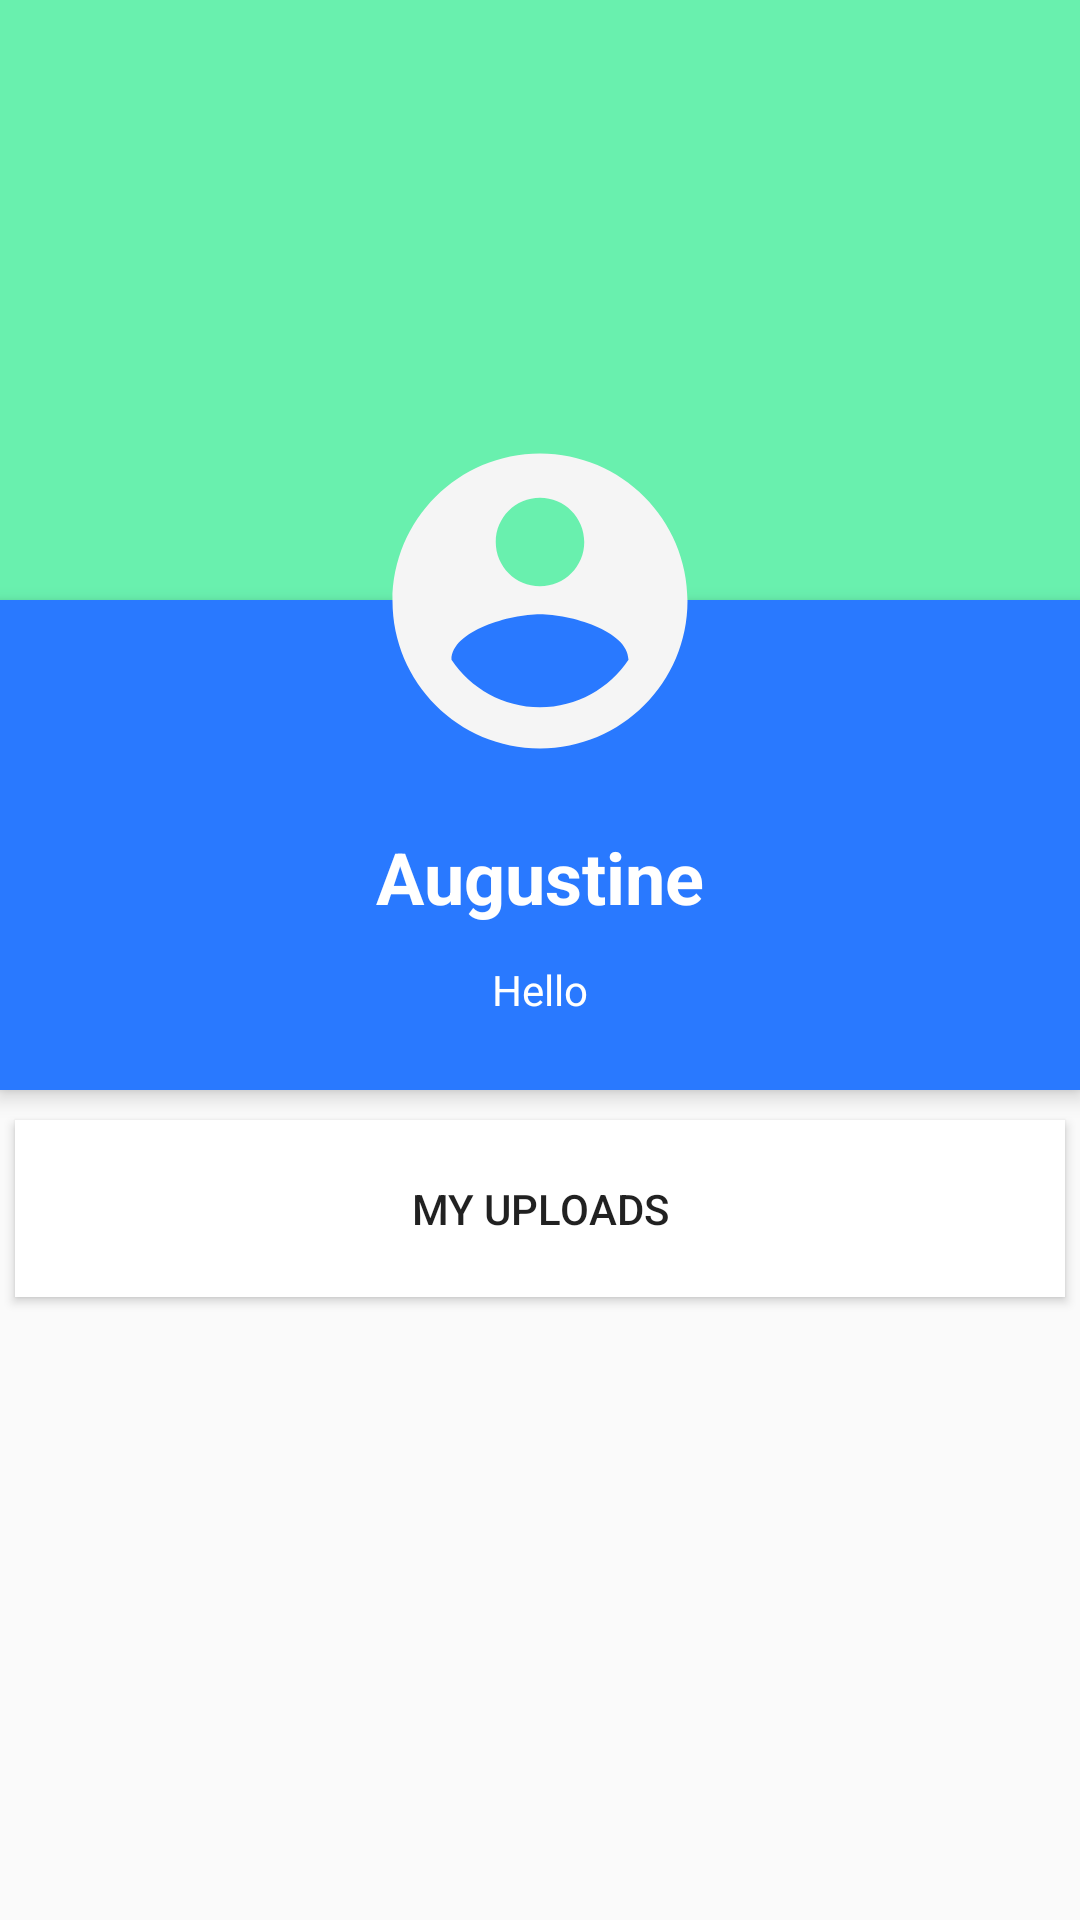

Named icons in this screenshot (1080*1920) and their centers, (x=x, y=y):
account circle: (x=540, y=601)
